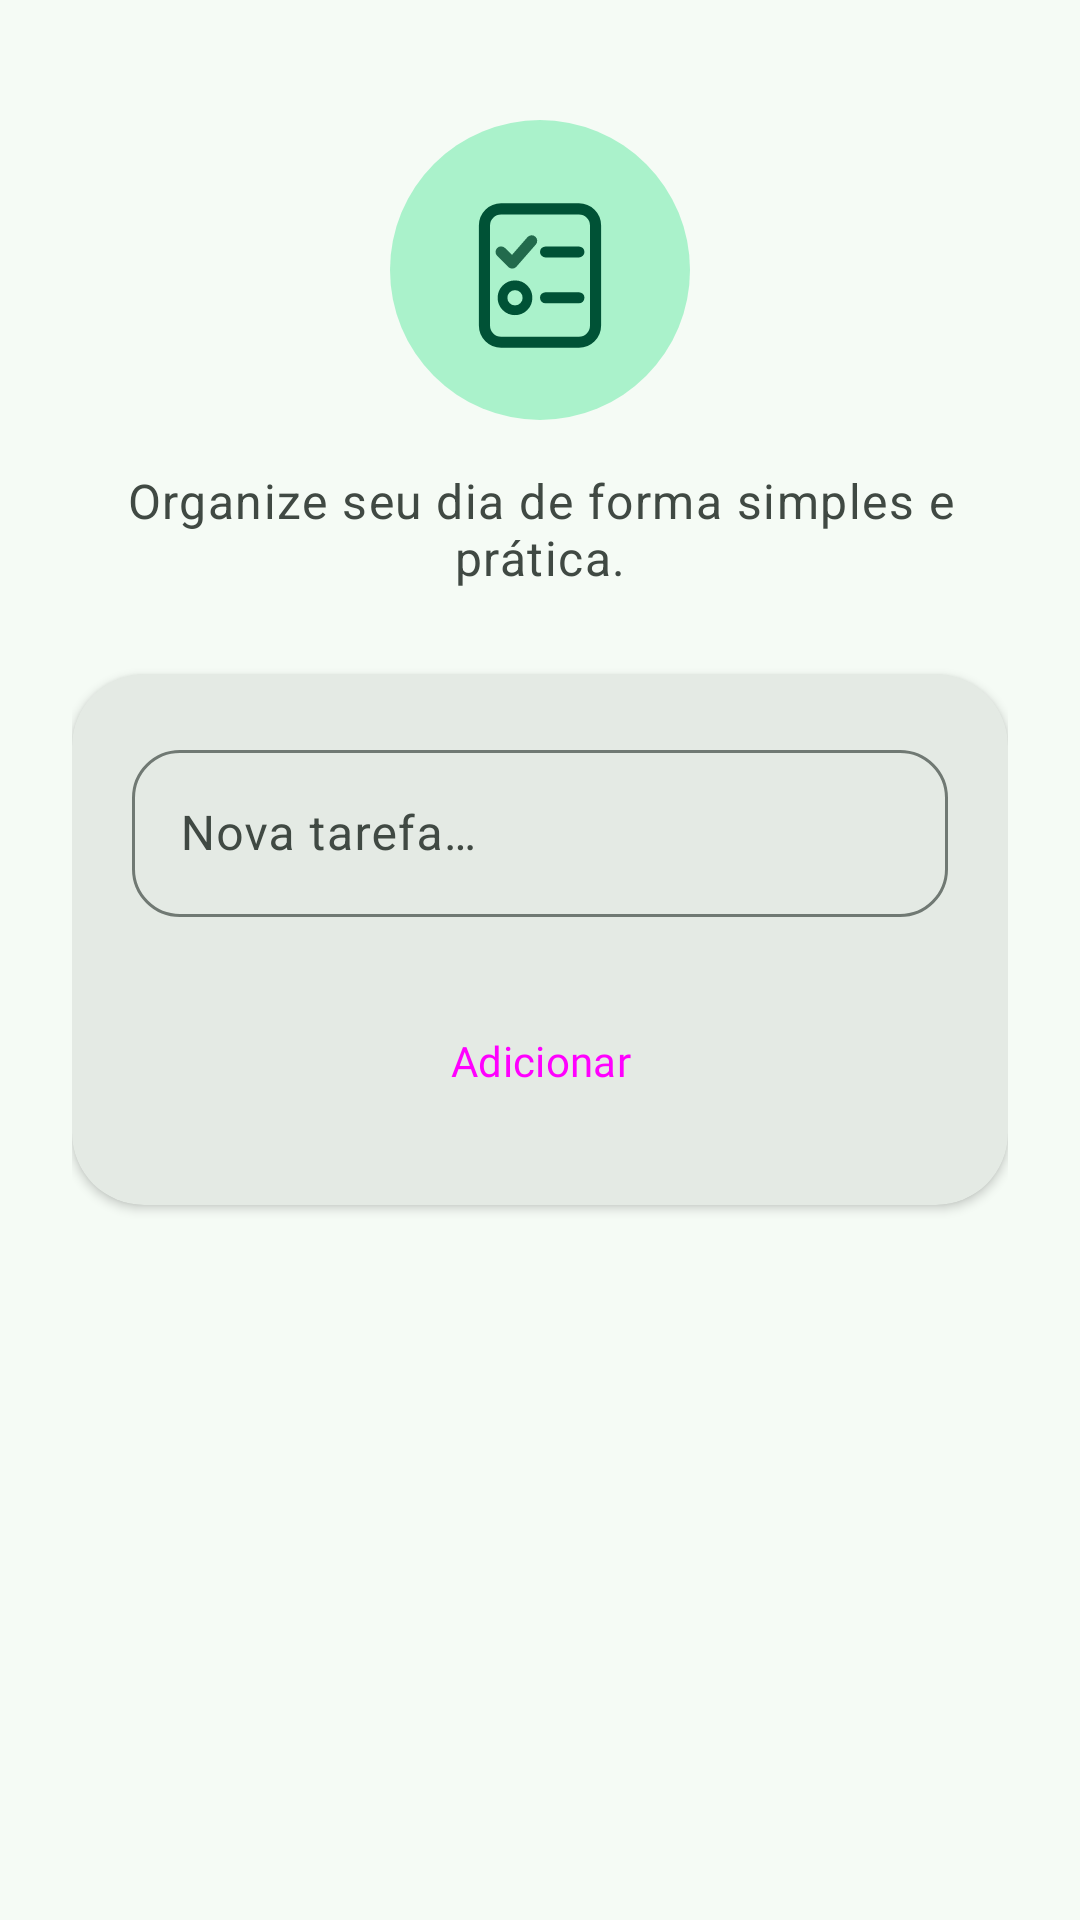

Icon click points for this 1080×1920 phone screenshot, format (x=x, y=y):
ilustracao boas vindas: (x=540, y=270)
